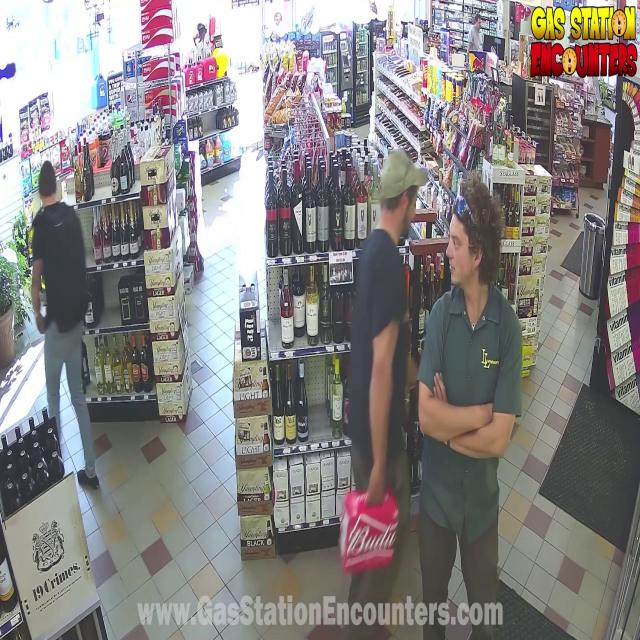Product: (336, 489, 400, 588)
normal: (402, 178, 548, 640), (4, 112, 112, 500)
shoplifting: (309, 148, 446, 617)
